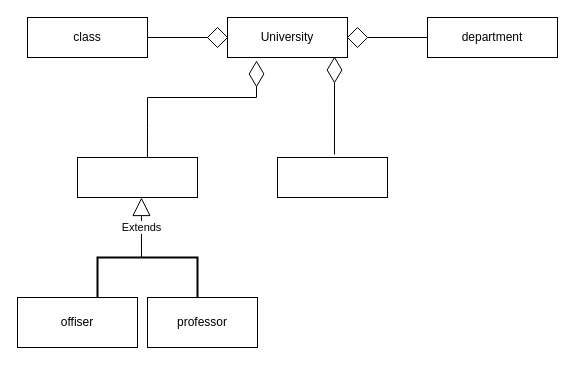
Image size: 575x365. Some labels were removed from this diagram. The box of each missing label's shape, as (x1, y1, x2, y2) in pixels:
office: (276, 156, 388, 198)
workers: (76, 156, 198, 198)
